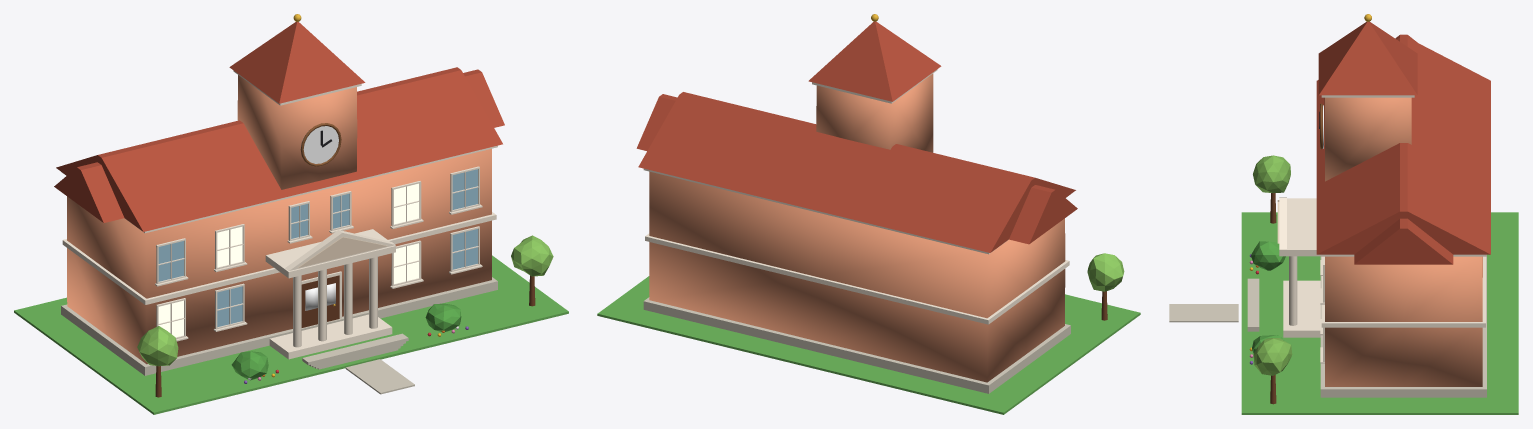
The model's file is school.glb.
3 views of the same model, side by side, from view 1: azimuth 30°, elevation 25°; view 2: azimuth 150°, elevation 25°; view 3: azimuth 270°, elevation 25° (orthographic). The views are drawn at different scales.
Visible parts, largest first — view 1: root; view 2: root; view 3: root.
Boxes of the visible parts, x1,y1,x2,y2 form: root: (14,14,568,414); root: (597,14,1140,414); root: (1169,14,1518,414).
Size of the model in its own units: 24 by 16.83 by 17.65.
